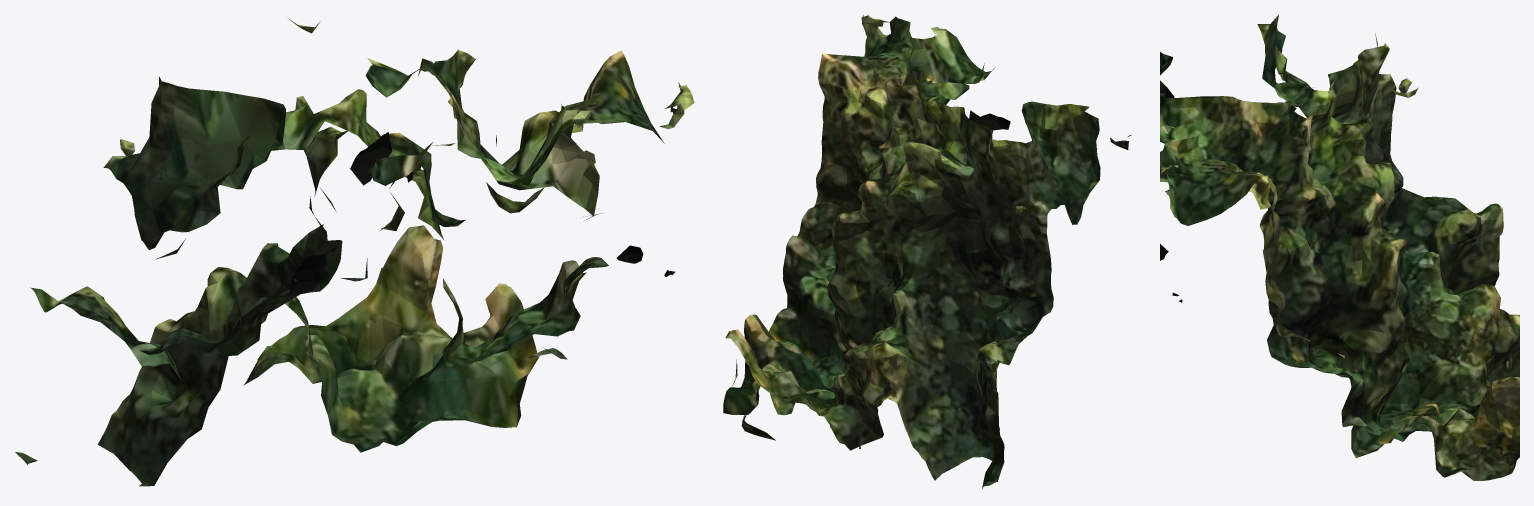
3 views of the same model, side by side, from view 1: azimuth 30°, elevation 25°; view 2: azimuth 150°, elevation 25°; view 3: azimuth 270°, elevation 25° (orthographic). The views are drawn at different scales.
Bounding box in the file's own units: 1.67 × 1.67 × 1.67.
5 materials, 5 textured.
